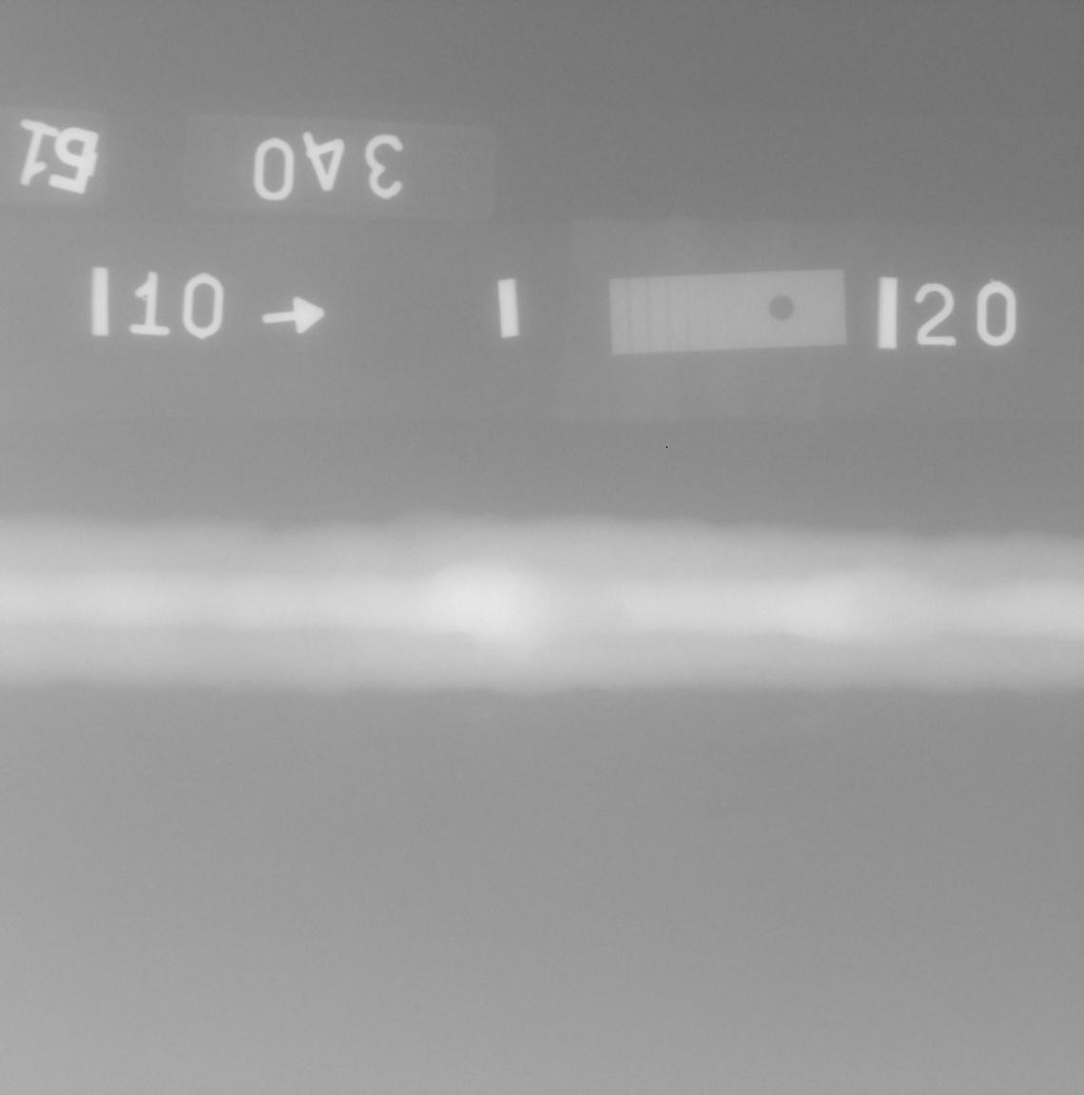Reference Standard 1: (608, 268, 846, 355)
